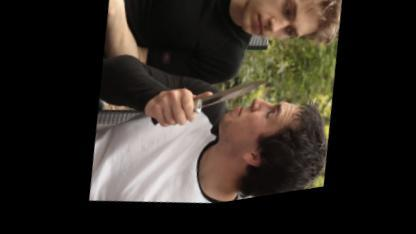knife: (141, 62, 275, 157)
